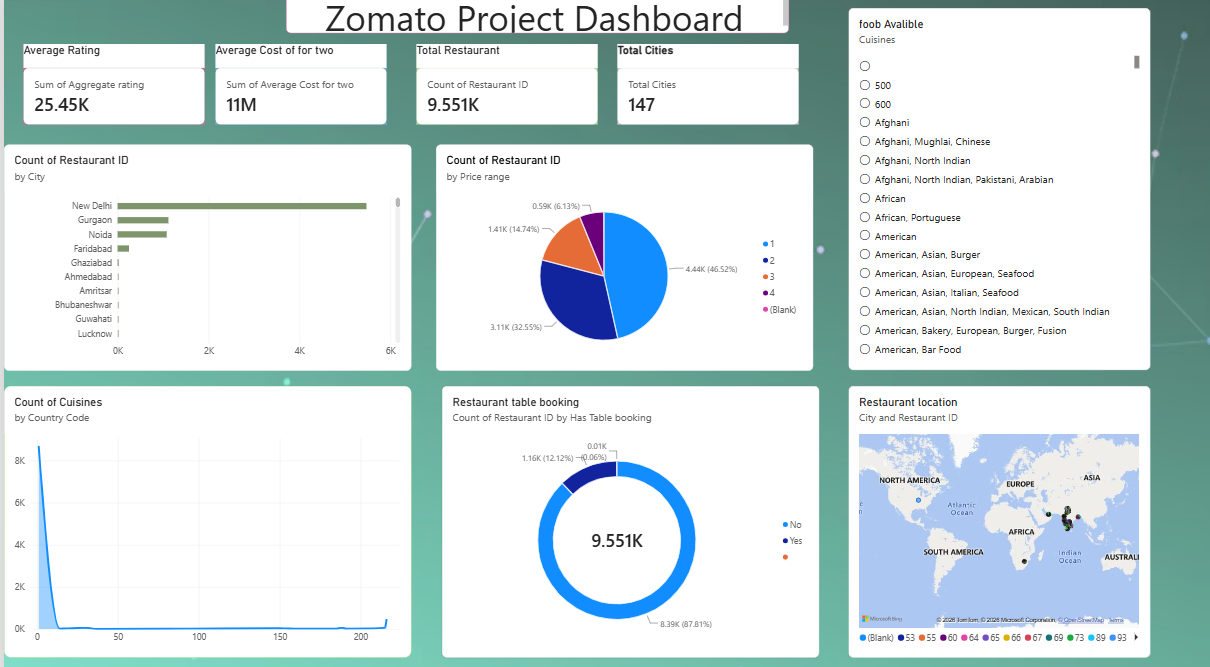

Layout of this report page (visuals, bound fields, positions):
{"tool":"powerbi","page":{"name":"Rrestauarnt Analytics Dashboard","canvas":[1920,1080],"ordinal":0},"visuals":[{"type":"cardVisual","title":"Average Rating","fields":{"Data":["Sum(zomato.Aggregate rating)"]},"box":[32,80,288,128],"z":0},{"type":"cardVisual","title":"Average Cost of for two","fields":{"Data":["Sum(zomato.Average Cost for two)"]},"box":[336,80,272,128],"z":1000},{"type":"cardVisual","title":"Total Restaurant","fields":{"Data":["CountNonNull(zomato.Restaurant ID)"]},"box":[656,80,288,128],"z":2000},{"type":"cardVisual","title":"Total Cities ","fields":{"Data":["zomato.Total Cities"]},"box":[976,80,288,128],"z":3000},{"type":"clusteredBarChart","fields":{"Category":["zomato.City"],"Y":["CountNonNull(zomato.Restaurant ID)"]},"box":[0,240,648,360],"z":4000},{"type":"pieChart","fields":{"Category":["zomato.Price range"],"Y":["CountNonNull(zomato.Restaurant ID)"]},"box":[688,240,600,360],"z":5000},{"type":"stackedAreaChart","fields":{"Category":["zomato.Country Code"],"Y":["CountNonNull(zomato.Cuisines)"]},"box":[0,624,648,432],"z":6000},{"type":"textbox","box":[1584,840,192,216],"z":7000},{"type":"textbox","box":[448,0,800,64],"z":8000},{"type":"donutChart","title":" Restaurant table booking","fields":{"Category":["zomato.Has Table booking"],"Y":["CountNonNull(zomato.Restaurant ID)"]},"box":[696,624,600,432],"z":9000},{"type":"listSlicer","title":"foob Avalible","fields":{"Values":["zomato.Cuisines"]},"box":[1344,24,480,576],"z":10000},{"type":"map","title":"Restaurant location","fields":{"Series":["zomato.Restaurant ID"],"Category":["zomato.City"]},"box":[1344,624,480,432],"z":11000},{"type":"textbox","box":[100,100,300,300],"z":12000}]}

Visuals, with their boxes in screenshot pixels (x1, y1, x2, y2), scaled from the page's 1920x1080 canvas onto the 1210x667 screenshot:
"Average Rating" cardVisual: Rect(20, 49, 202, 128)
"Average Cost of for two" cardVisual: Rect(212, 49, 383, 128)
"Total Restaurant" cardVisual: Rect(413, 49, 595, 128)
"Total Cities " cardVisual: Rect(615, 49, 797, 128)
clusteredBarChart - zomato.City x CountNonNull(zomato.Restaurant ID): Rect(0, 148, 408, 371)
pieChart - zomato.Price range x CountNonNull(zomato.Restaurant ID): Rect(434, 148, 812, 371)
stackedAreaChart - zomato.Country Code x CountNonNull(zomato.Cuisines): Rect(0, 385, 408, 652)
textbox: Rect(998, 519, 1119, 652)
textbox: Rect(282, 0, 786, 40)
" Restaurant table booking" donutChart: Rect(439, 385, 817, 652)
"foob Avalible" listSlicer: Rect(847, 15, 1150, 371)
"Restaurant location" map: Rect(847, 385, 1150, 652)
textbox: Rect(63, 62, 252, 247)
